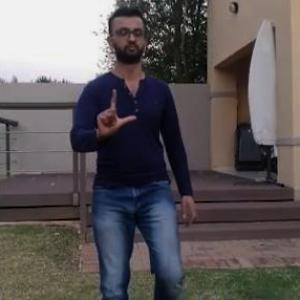land_hand: (91, 83, 143, 146)
